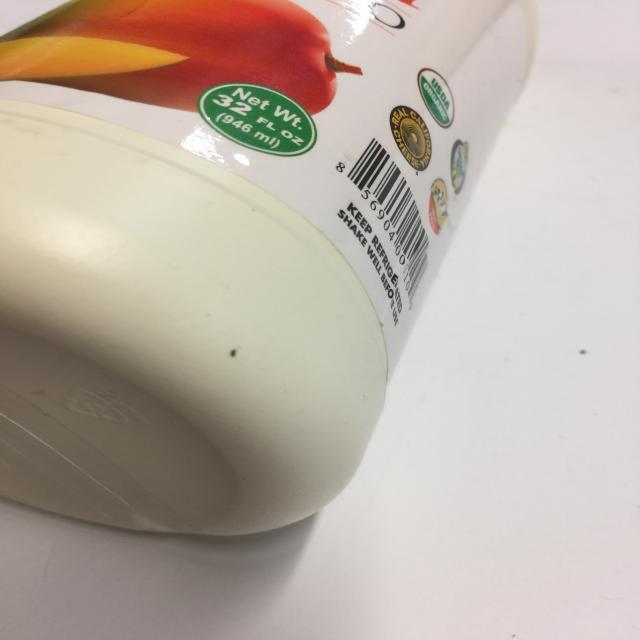plastic: (0, 1, 540, 528)
